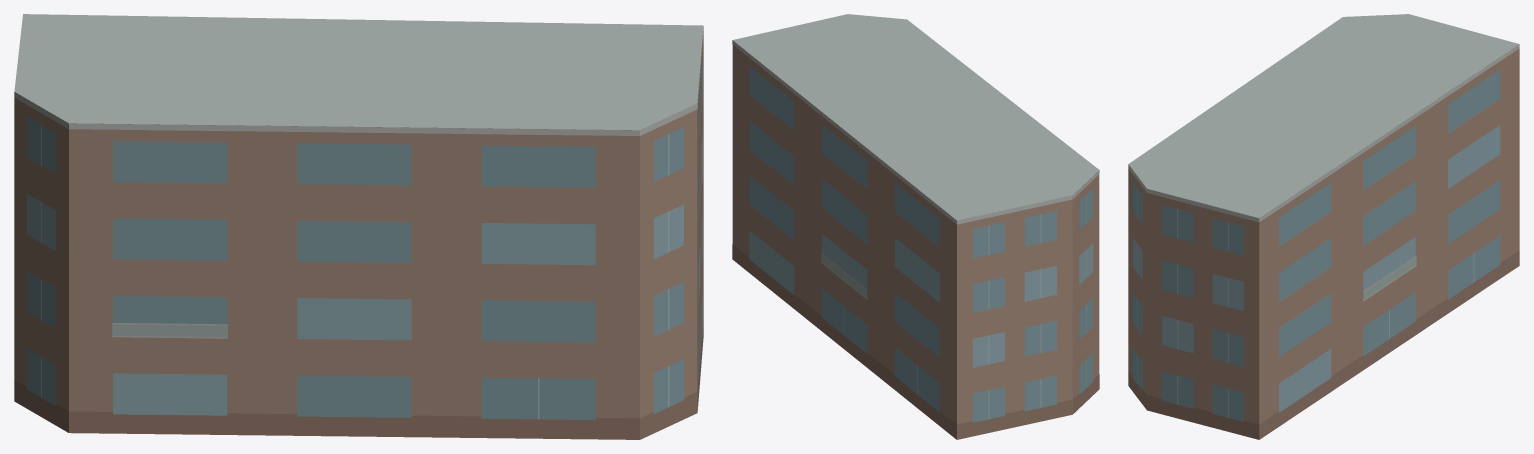
The model's file is survey-upis-32524471.glb.
3 views of the same model, side by side, from view 1: azimuth 30°, elevation 25°; view 2: azimuth 150°, elevation 25°; view 3: azimuth 270°, elevation 25° (orthographic). The views are drawn at different scales.
Parts seen in each view (by area): view 1: survey-upis-32524471.tmp; view 2: survey-upis-32524471.tmp; view 3: survey-upis-32524471.tmp.
Part boxes in pixels (x1,y1,x2,y2): survey-upis-32524471.tmp: (14, 14, 703, 439); survey-upis-32524471.tmp: (732, 14, 1099, 439); survey-upis-32524471.tmp: (1128, 14, 1519, 439).
Size of the model in its own units: 25.5 by 12.9 by 20.65.
